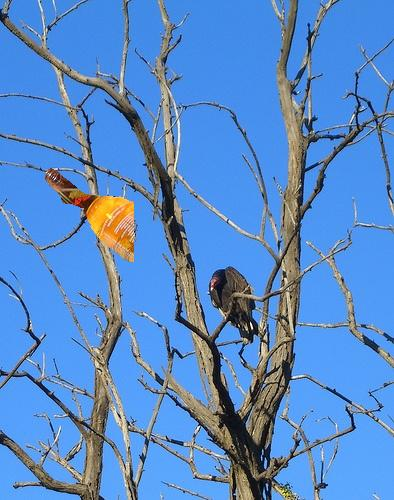tampered: (46, 169, 134, 262)
